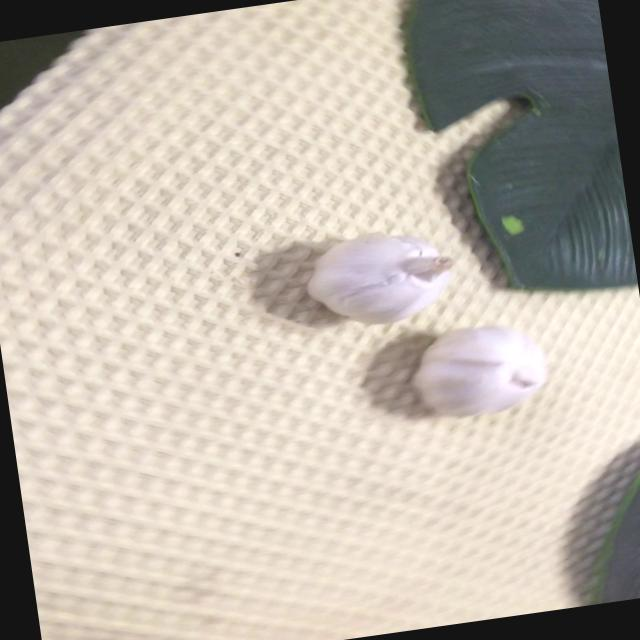garlic: (296, 220, 469, 336), (402, 310, 558, 429)
